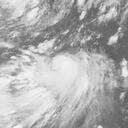cyclone: (28, 43, 109, 117)
